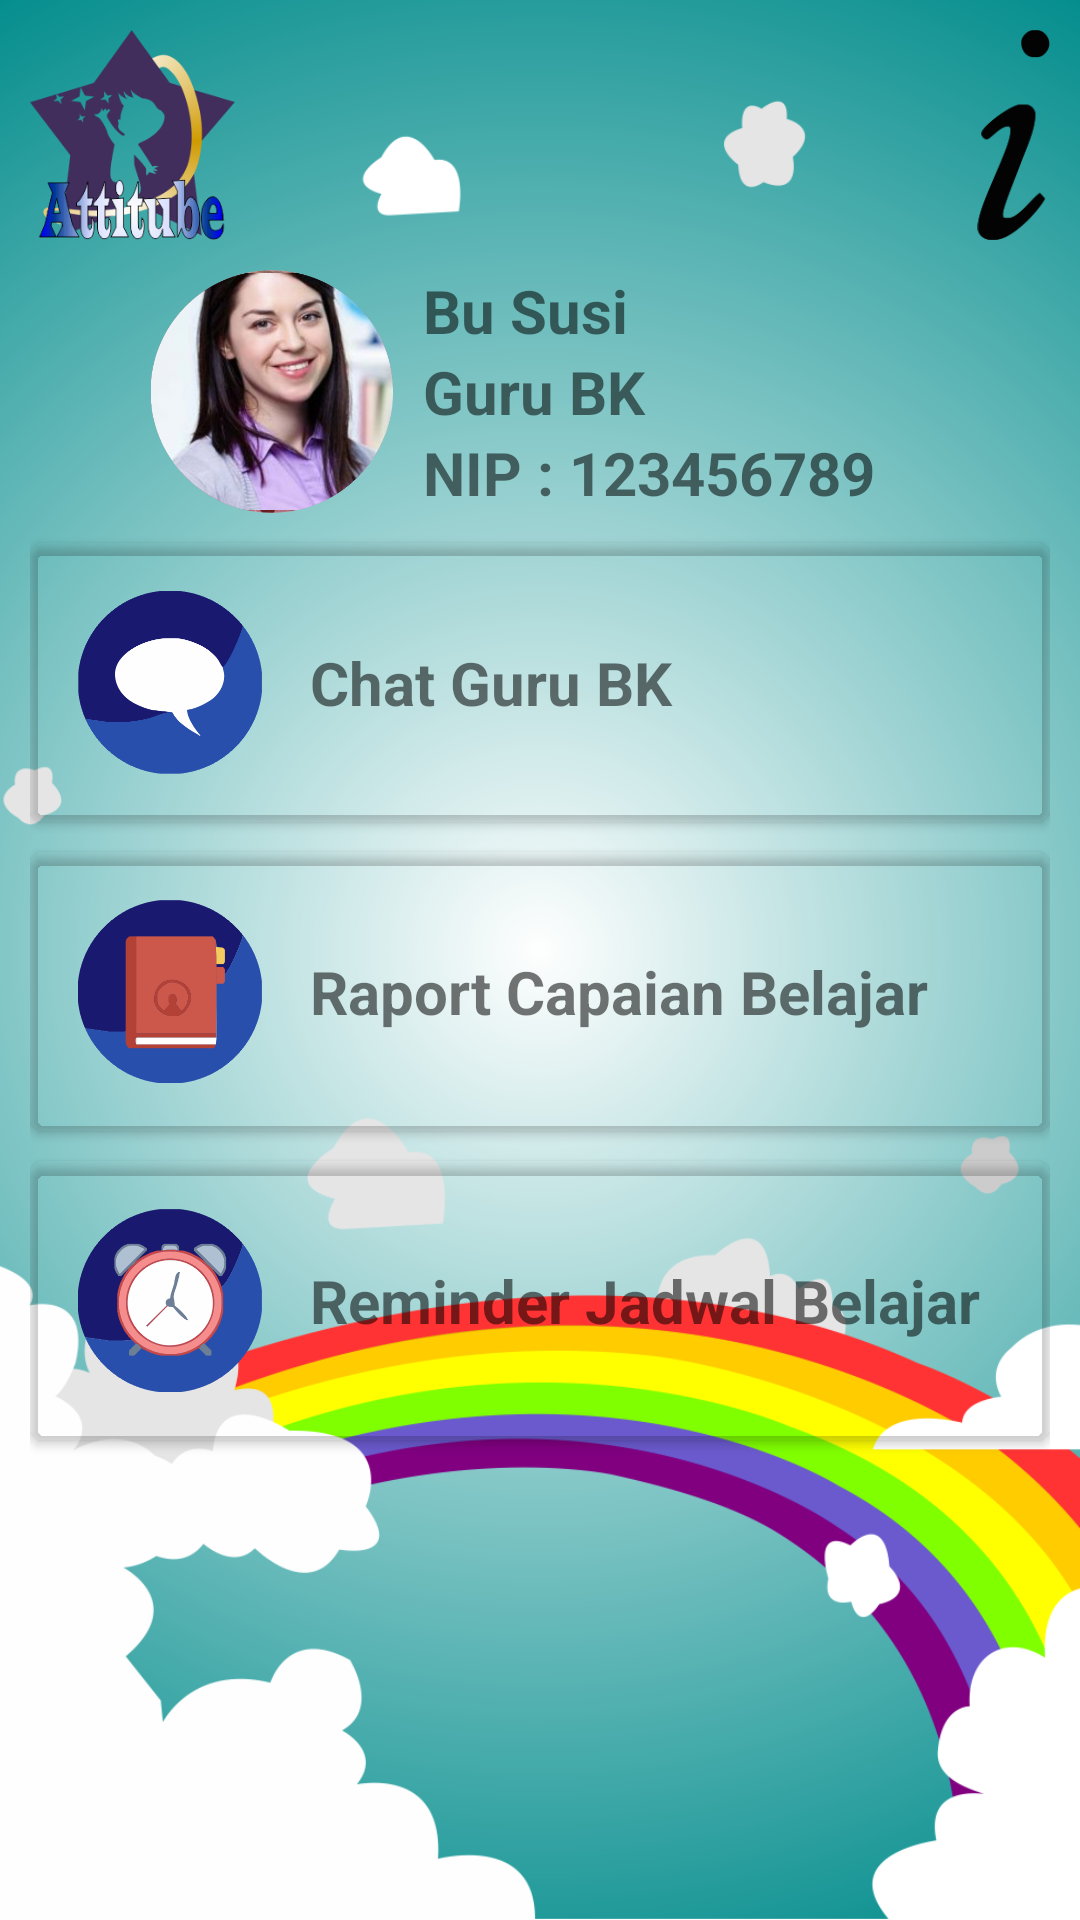

Icon click points for this 1080x1920 phone screenshot, format point (x, y):
book: point (170, 991)
remainder: point (170, 1300)
